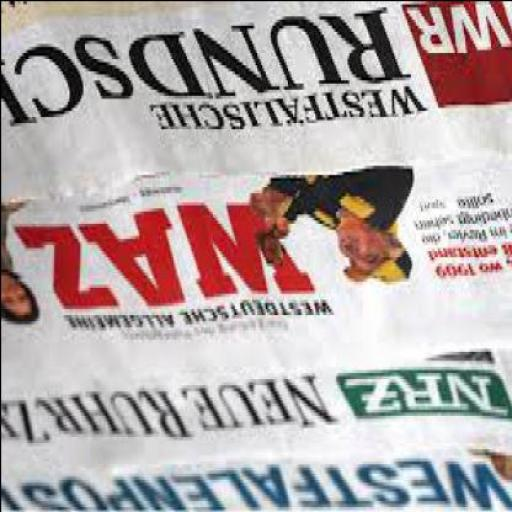paper: (2, 182, 511, 403), (2, 3, 511, 207), (2, 305, 511, 484), (1, 432, 511, 511)
